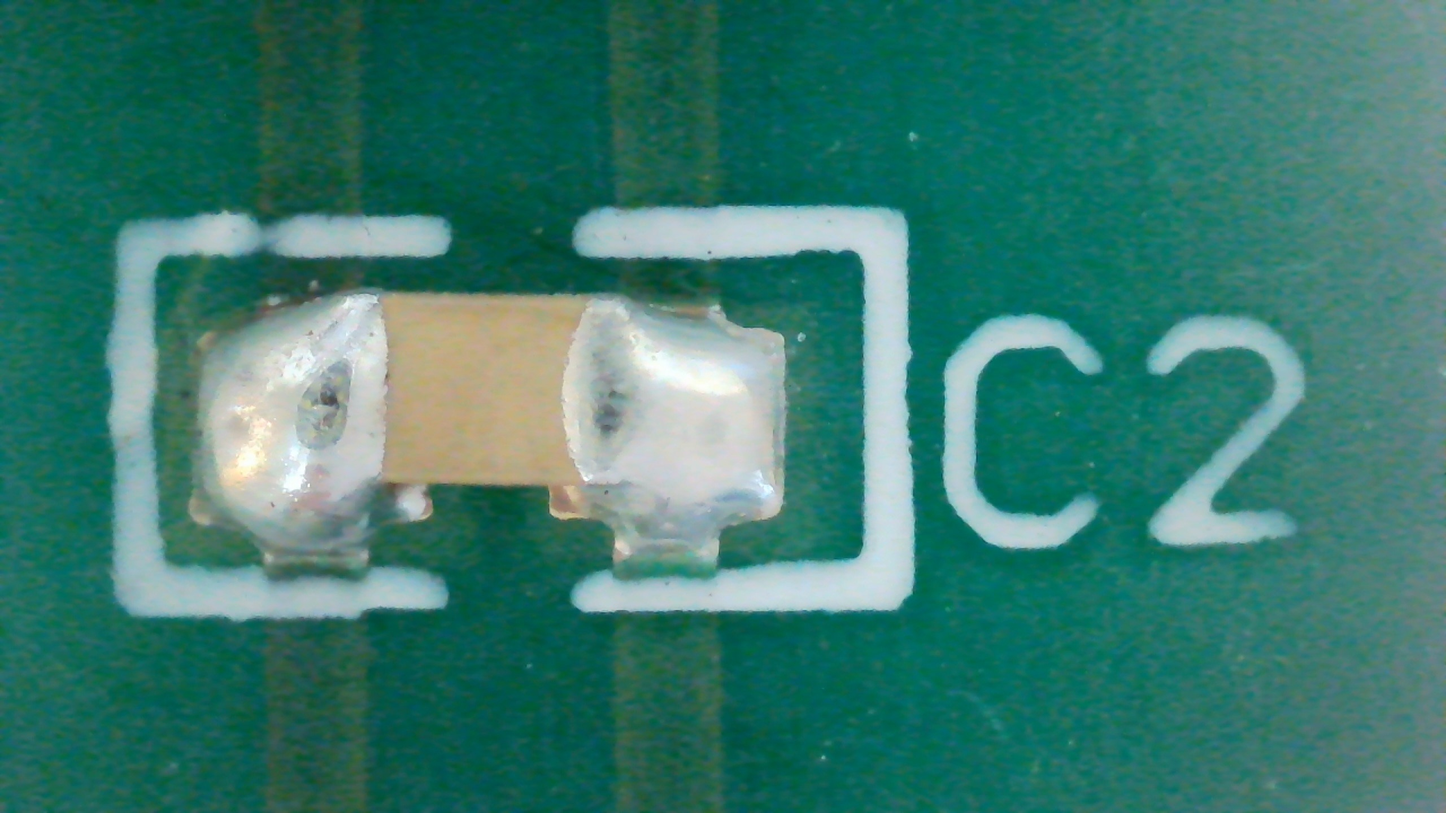NG: (189, 294, 787, 578)
